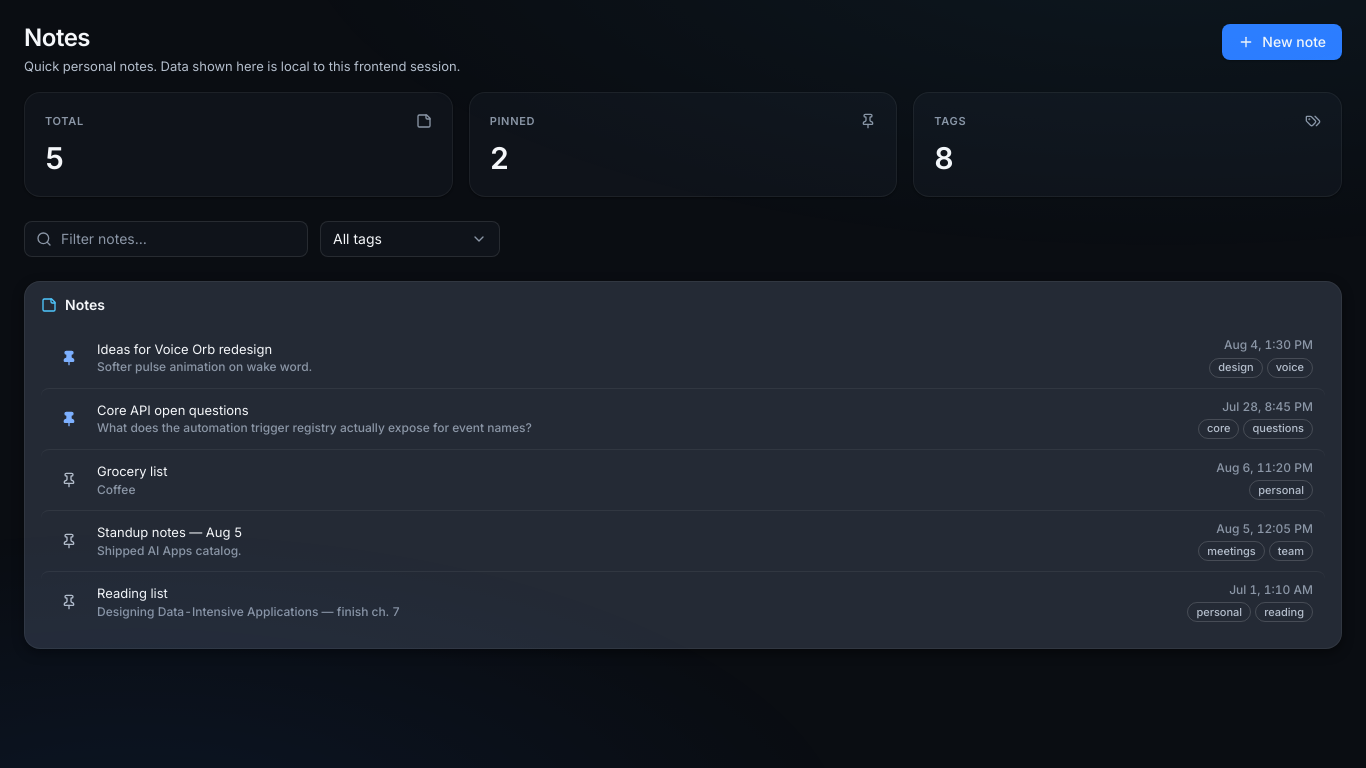
Test case: NotesPage › filters notes by tag
Expected: the button with test id "note-row-note-1" is shown, [41,328,1325,388]
Click the dropdown with test id "notes-tag-filter" at (410, 239), box [320,221,500,257]
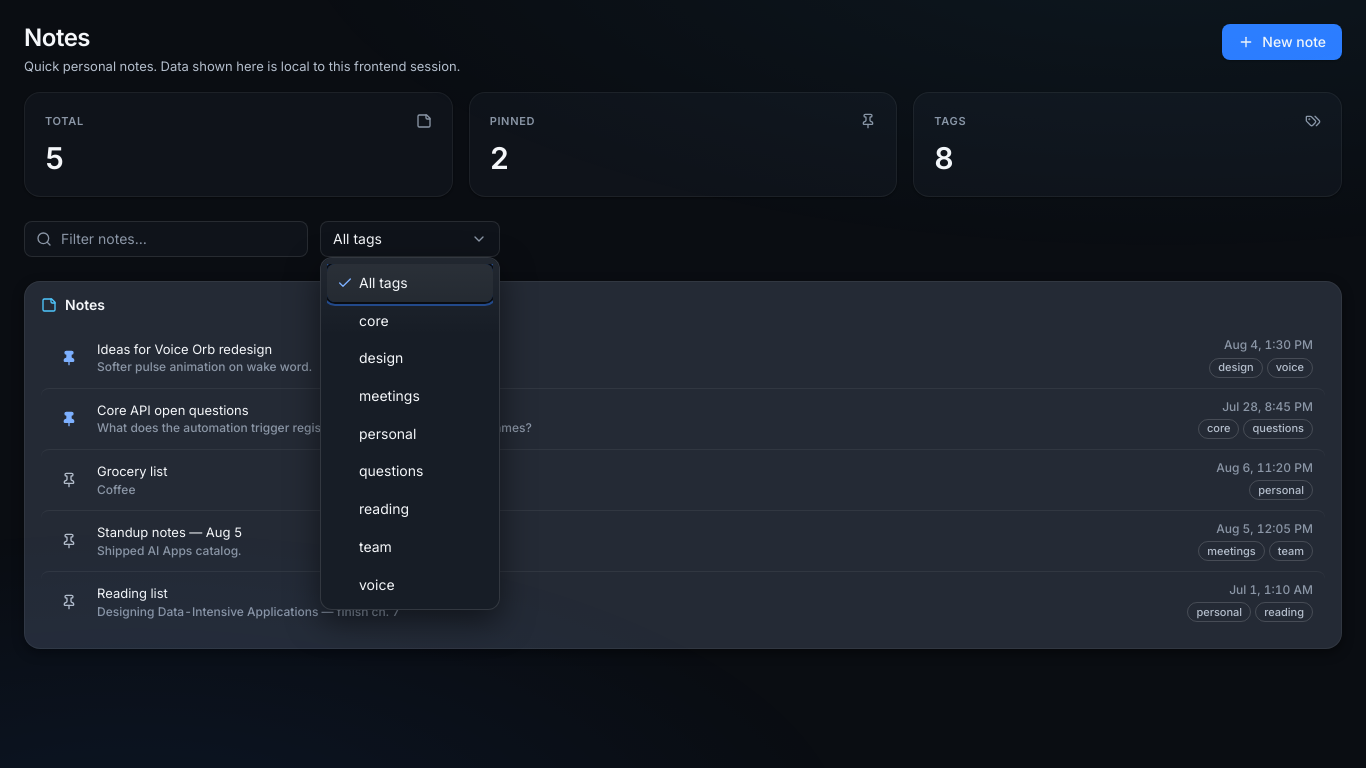
Click the option "voice" at (377, 584), box [359,576,394,592]
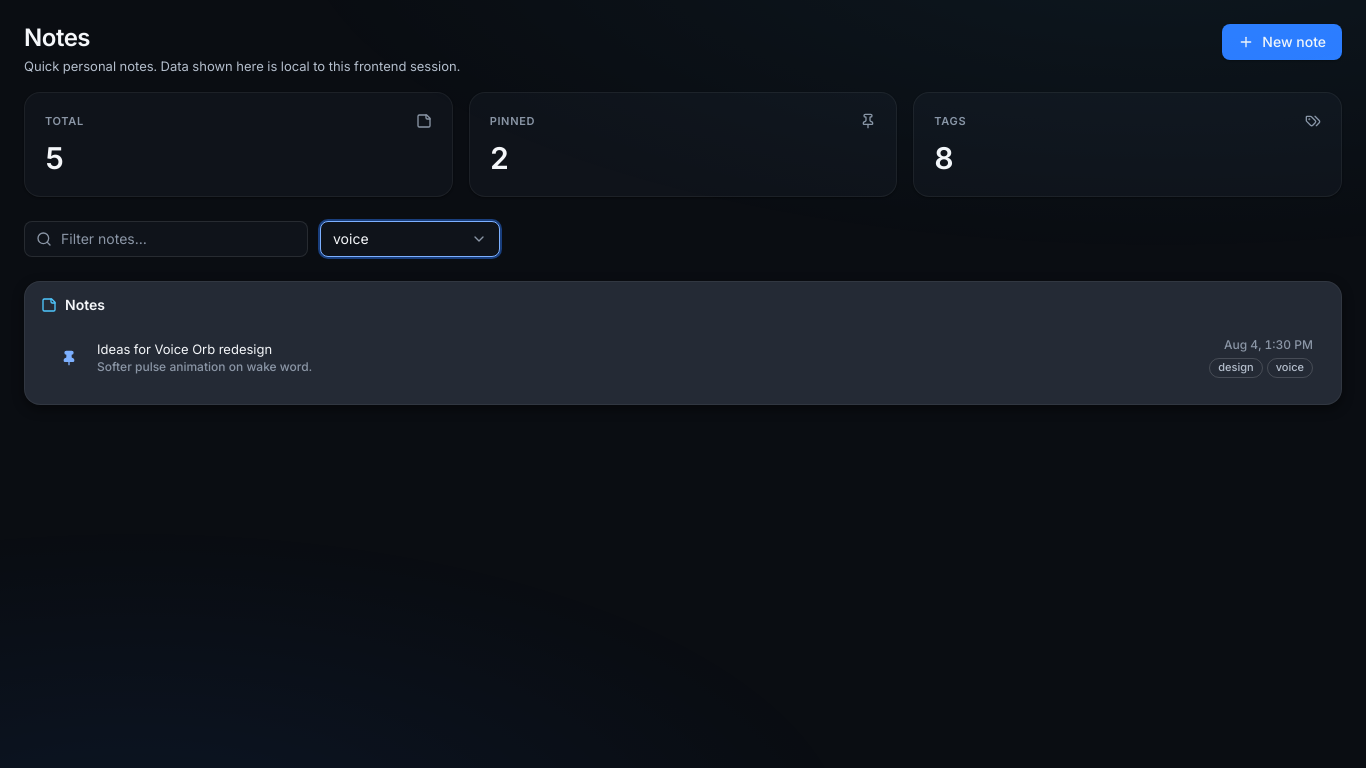
Expected: the button with test id "note-row-note-1" is shown, [41,328,1325,388]
Now the button with test id "note-row-note-4" is gone
